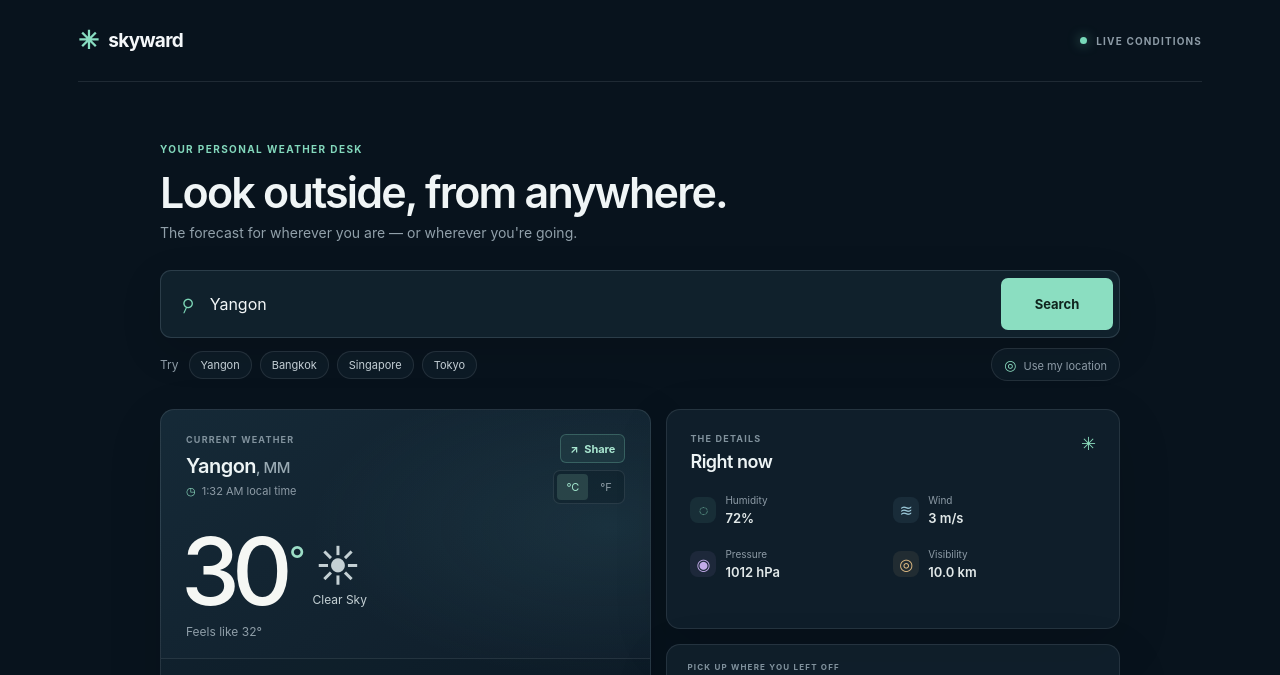
shares the selected forecast using the device share sheet
Click the button "°F" at (606, 487), box [590,474,621,500]
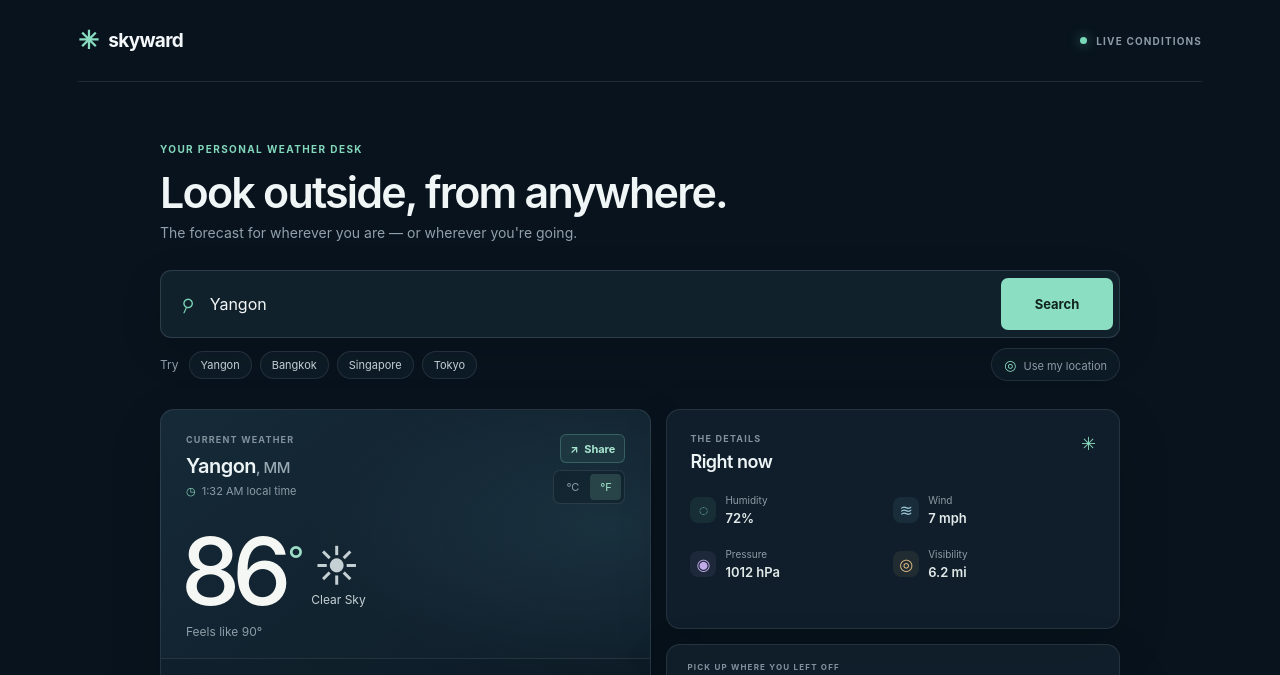
Click the button "↗ Share" at (593, 449), box [560,434,625,463]
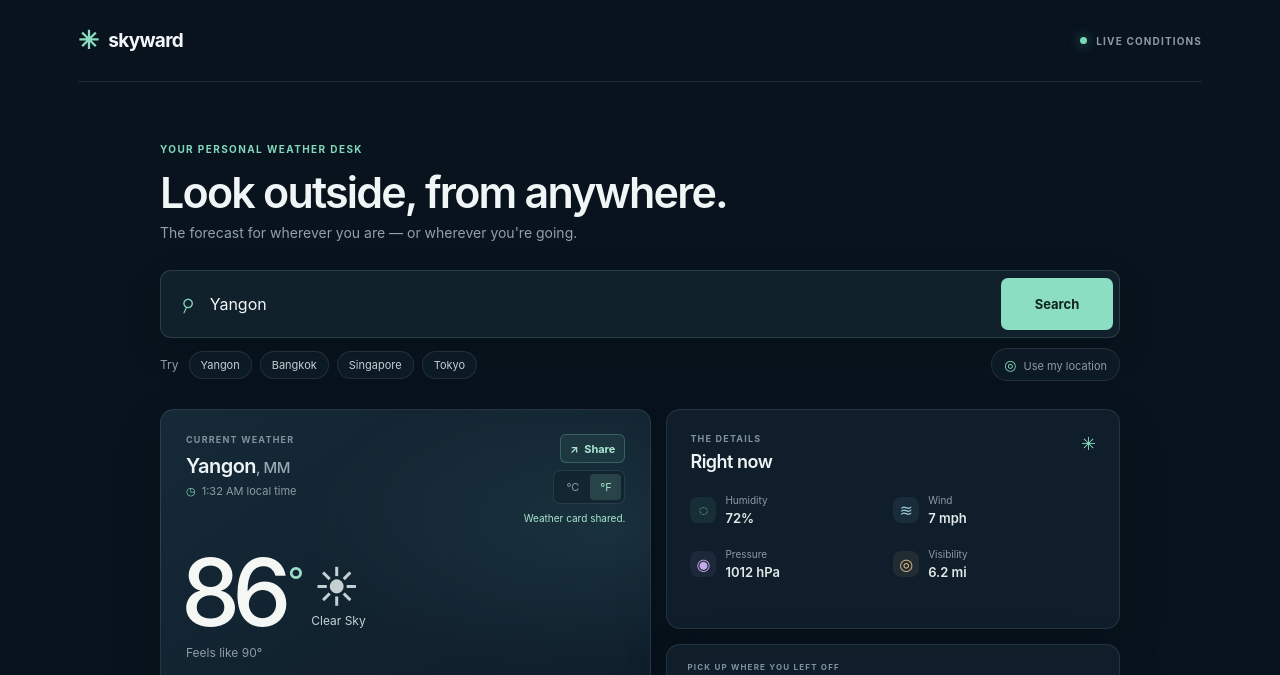
Expected: the message reads "Weather card shared.", [524,512,625,524]
